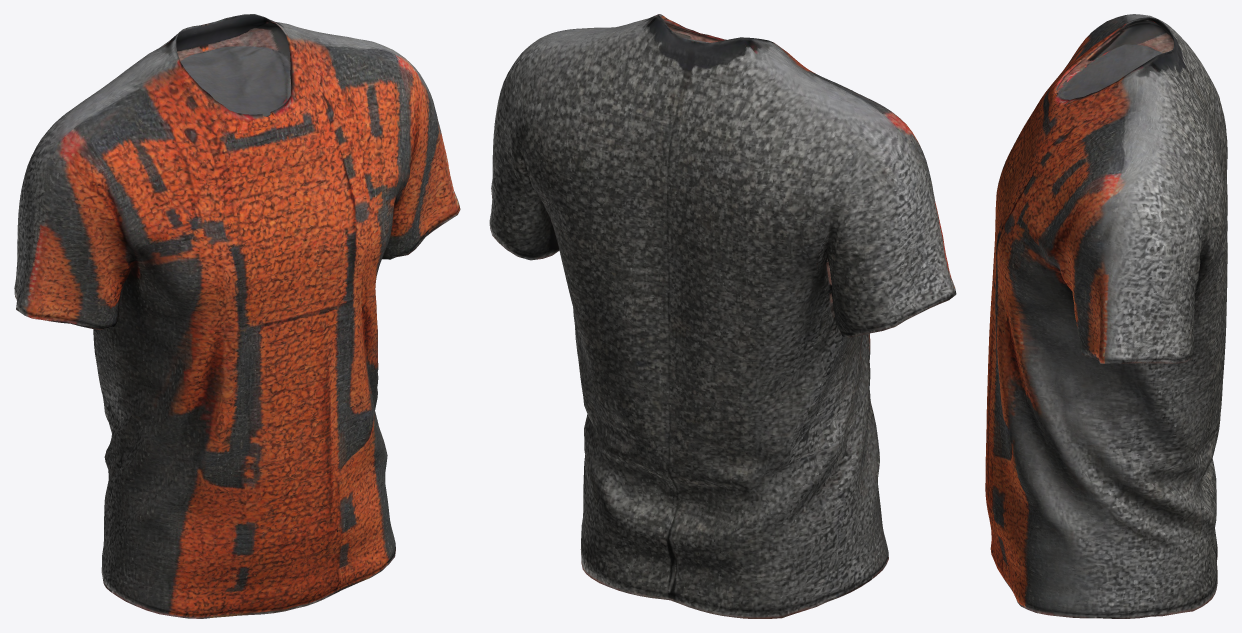
Rendered from shirt6.glb.
3 views of the same model, side by side, from view 1: azimuth 30°, elevation 25°; view 2: azimuth 150°, elevation 25°; view 3: azimuth 270°, elevation 25° (orthographic). The views are drawn at different scales.
Bounding box in the file's own units: 1.75 × 2.01 × 0.8348.
Materials: 1 (1 with a texture image).
